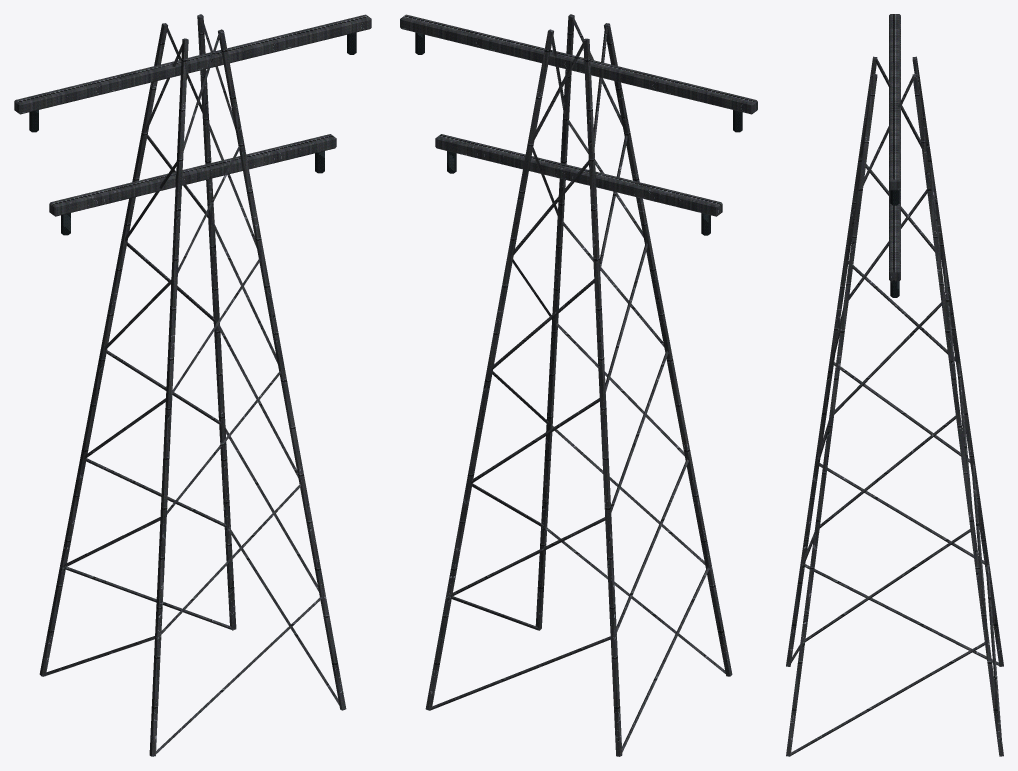
The model's file is prop_power_pylon.glb.
3 views of the same model, side by side, from view 1: azimuth 30°, elevation 25°; view 2: azimuth 150°, elevation 25°; view 3: azimuth 270°, elevation 25° (orthographic). The views are drawn at different scales.
Parts seen in each view (by area): view 1: prop_power_pylon_mesh; view 2: prop_power_pylon_mesh; view 3: prop_power_pylon_mesh.
Part boxes in pixels (x1,y1,x2,y2): prop_power_pylon_mesh: (14,14,371,756); prop_power_pylon_mesh: (400,14,757,756); prop_power_pylon_mesh: (786,14,1003,756).
Size of what is drawn, in the model's own units: 10 by 18.05 by 5.51.
2 materials, 2 textured.
